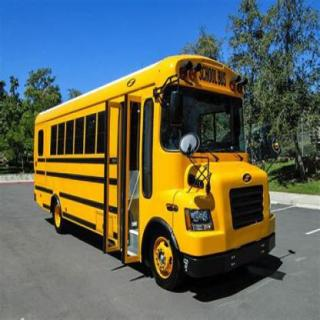Normal_vehicle: (18, 40, 296, 302)
